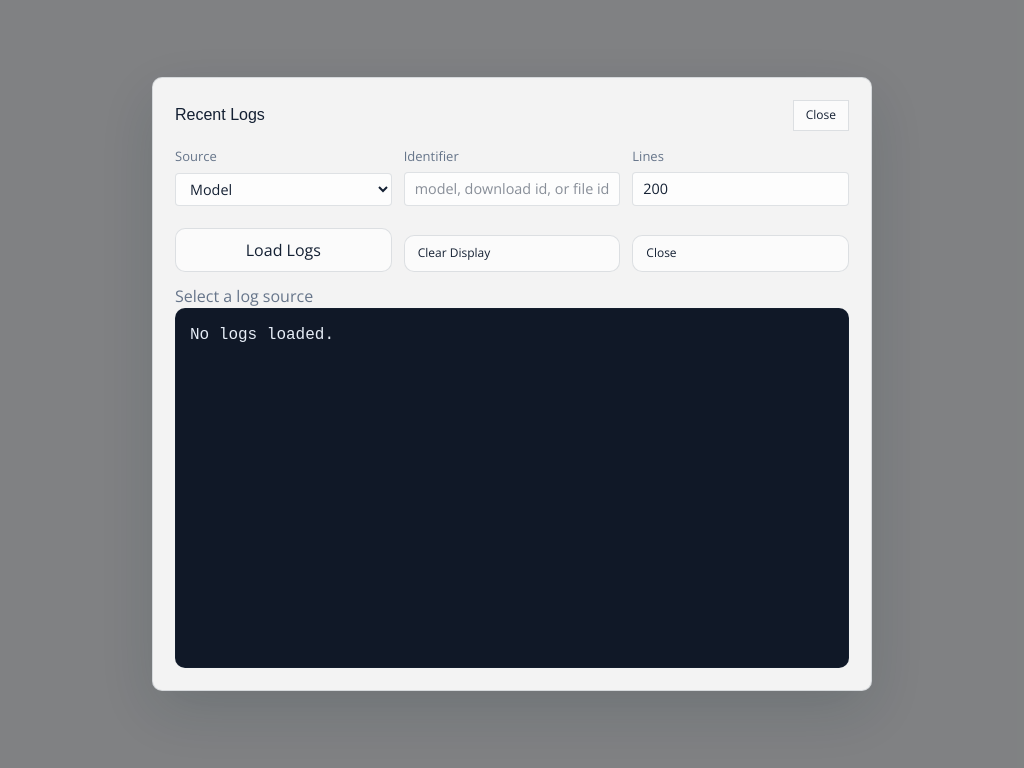
Test case: clears the displayed log output without closing the modal
Step 1. Type "qwen" into the field labelled "Identifier" → (512, 189), box [404,172,620,206]
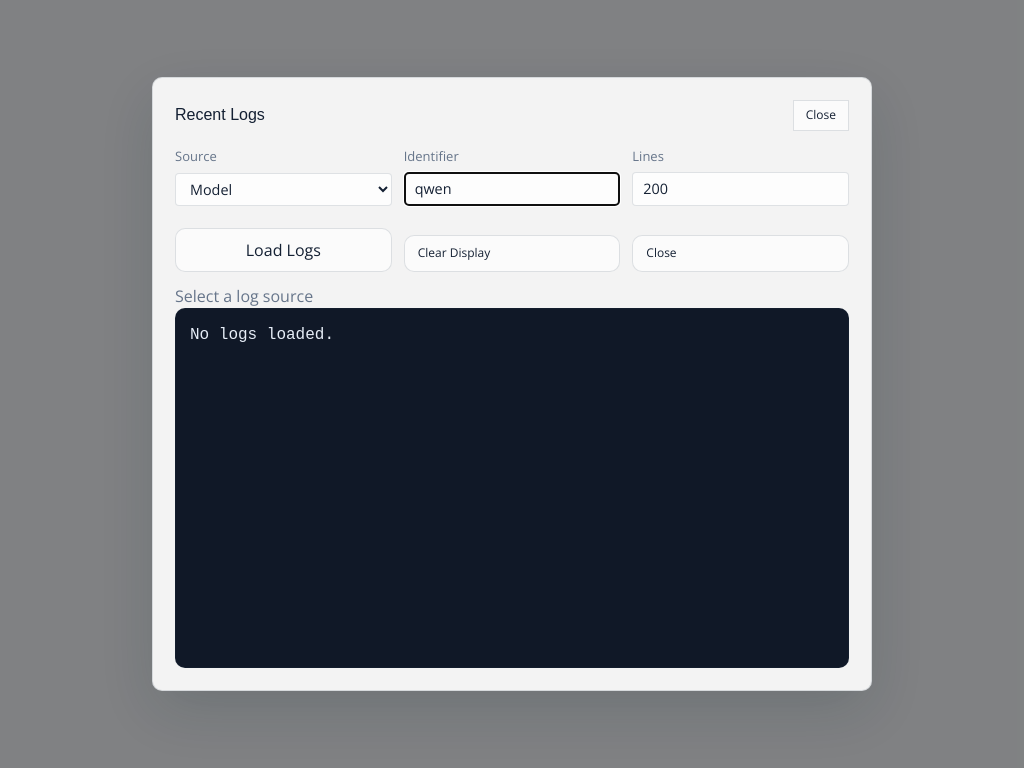
Step 2. Click the button "Load Logs" → (283, 250), box [175,228,392,272]
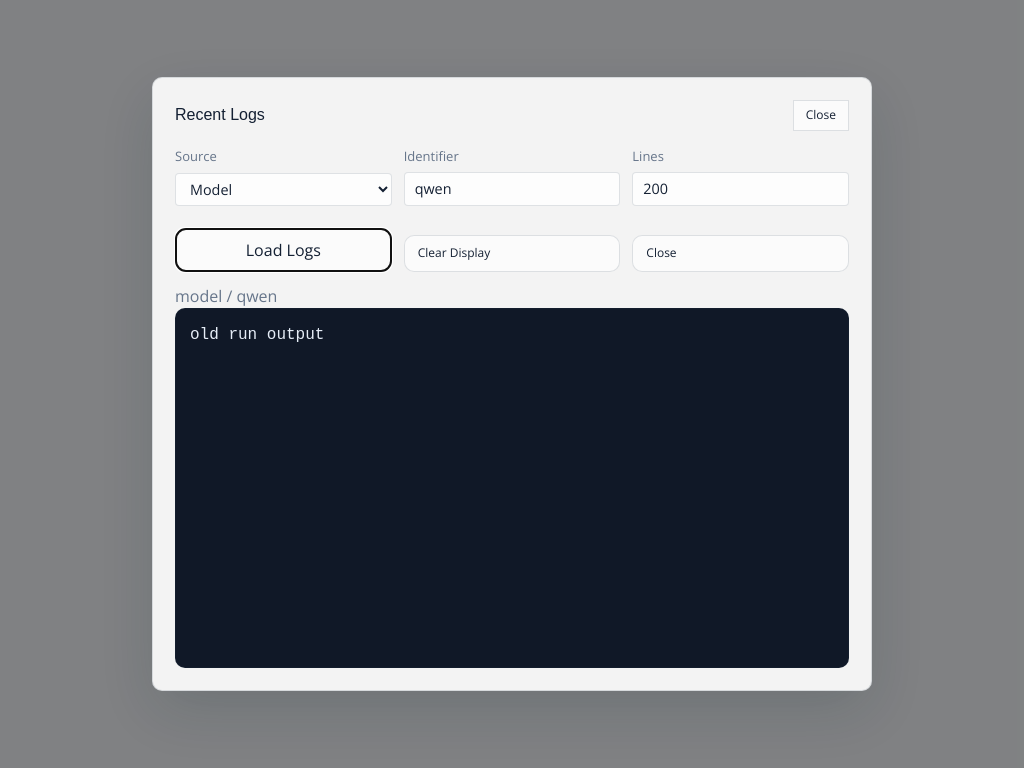
expect the text "old run output" is shown: met, box [175,308,849,668]
Step 3. Click the button with aria-label "Clear displayed logs" → (512, 254), box [404,235,620,272]
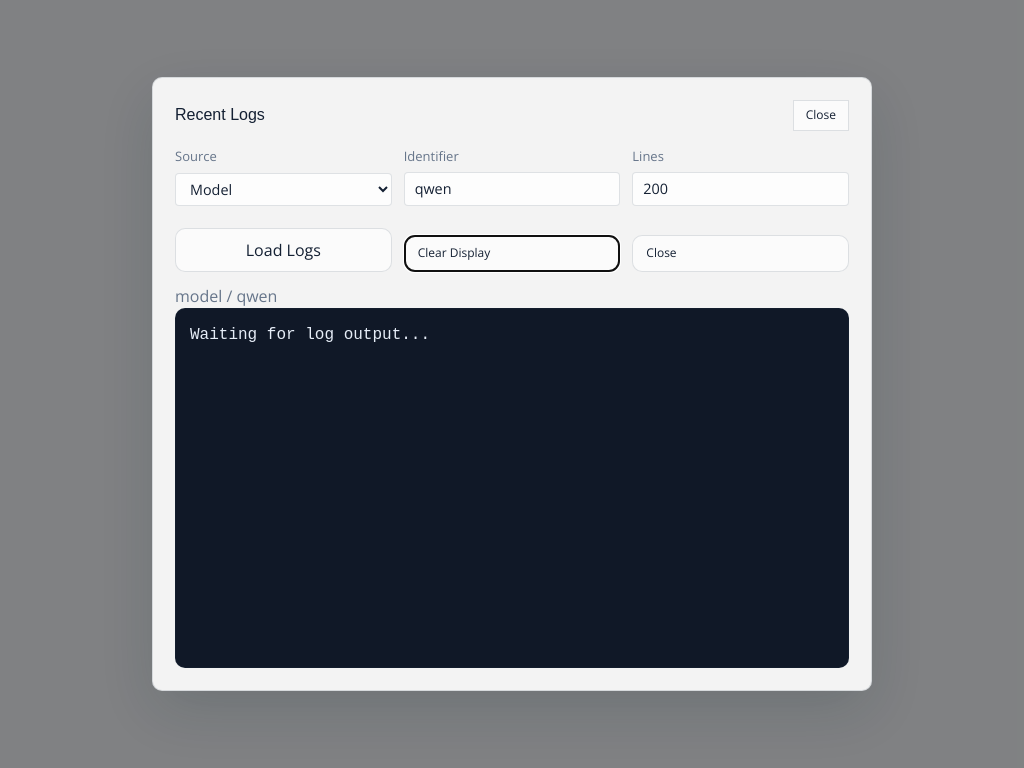
expect the text "old run output" is gone: met
expect the text "Waiting for log output..." is shown: met, box [175,308,849,668]
